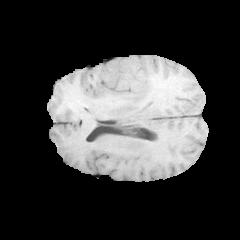glioma: (104, 58, 155, 106)
